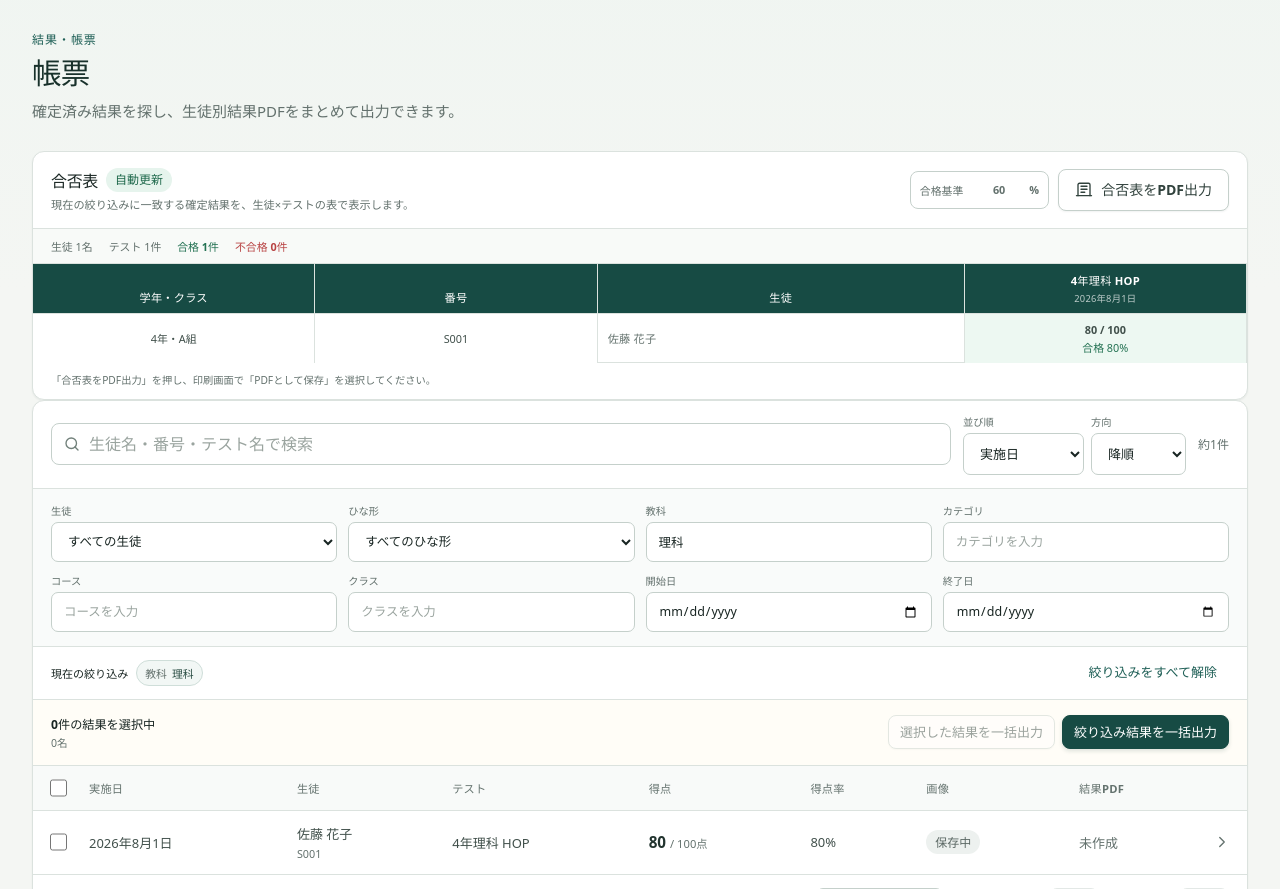
Test: ReportsPage bulk result export › reuses the acknowledged preview idempotency key after an ambiguous create failure
Click the checkbox named "佐藤 花子・4年理科 HOPを選択" at (58, 842), box x1=50 y1=833 x2=67 y2=851
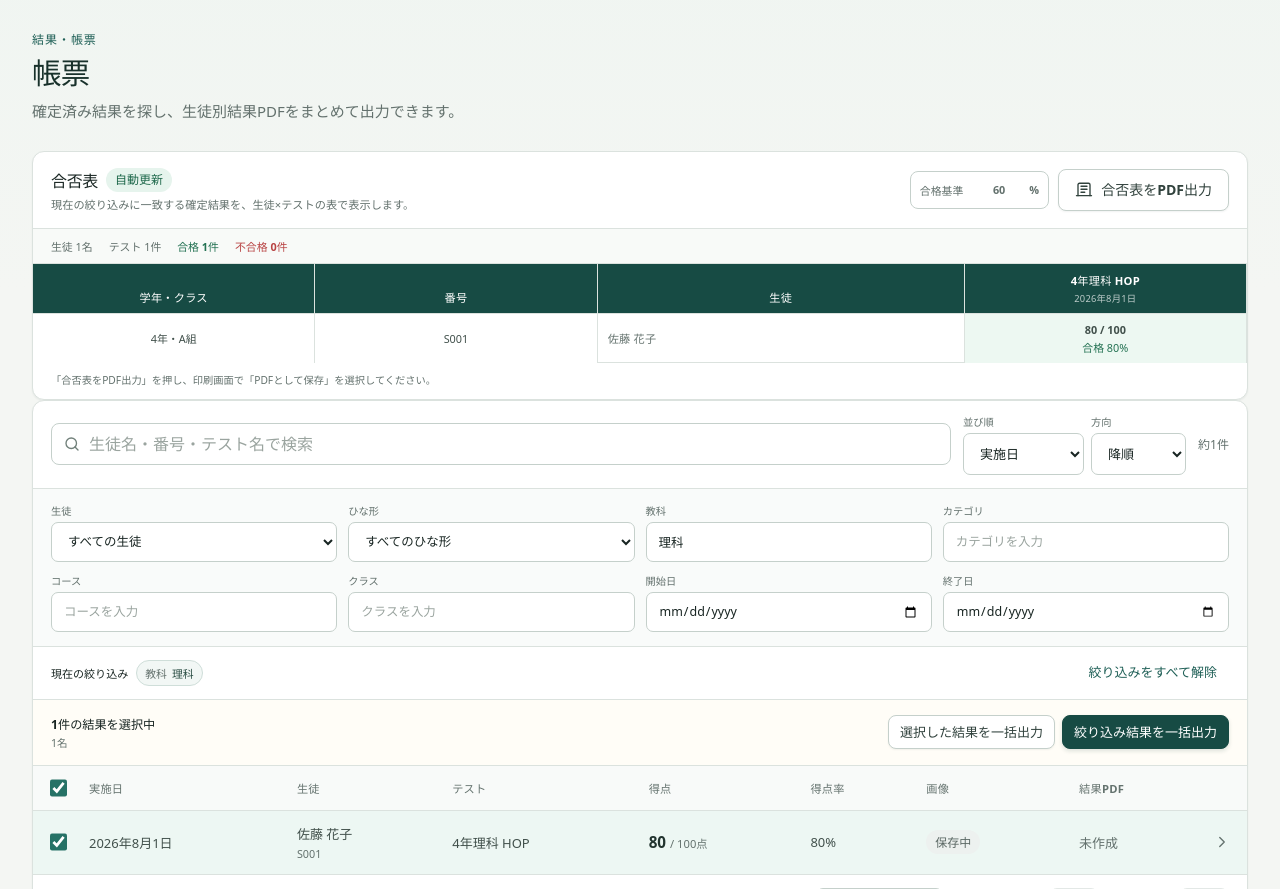
Click the button "選択した結果を一括出力" at (972, 732), box x1=888 y1=715 x2=1055 y2=749
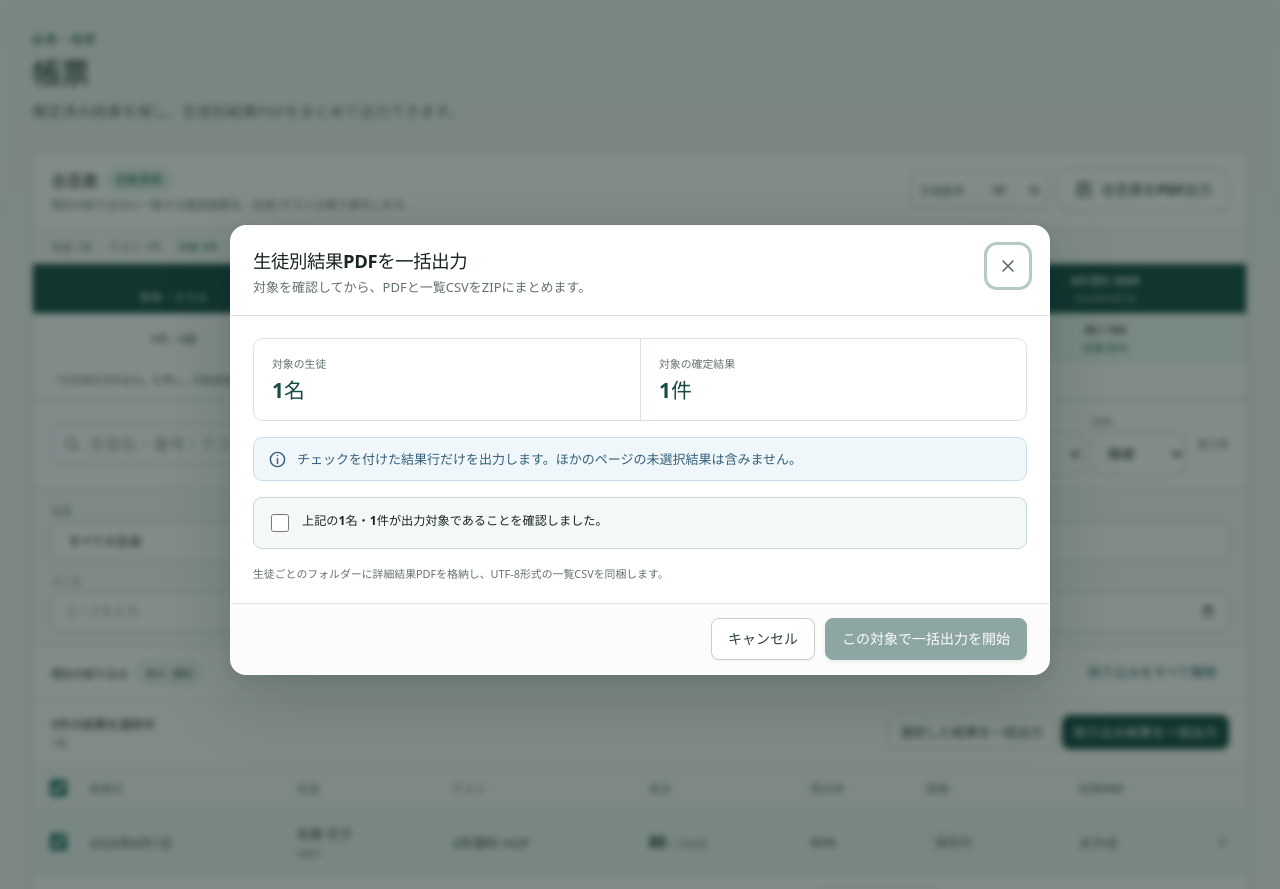
Click the checkbox labelled "上記の1名・1件が出力対象であることを確認しました。" at (280, 523), box x1=271 y1=514 x2=289 y2=532
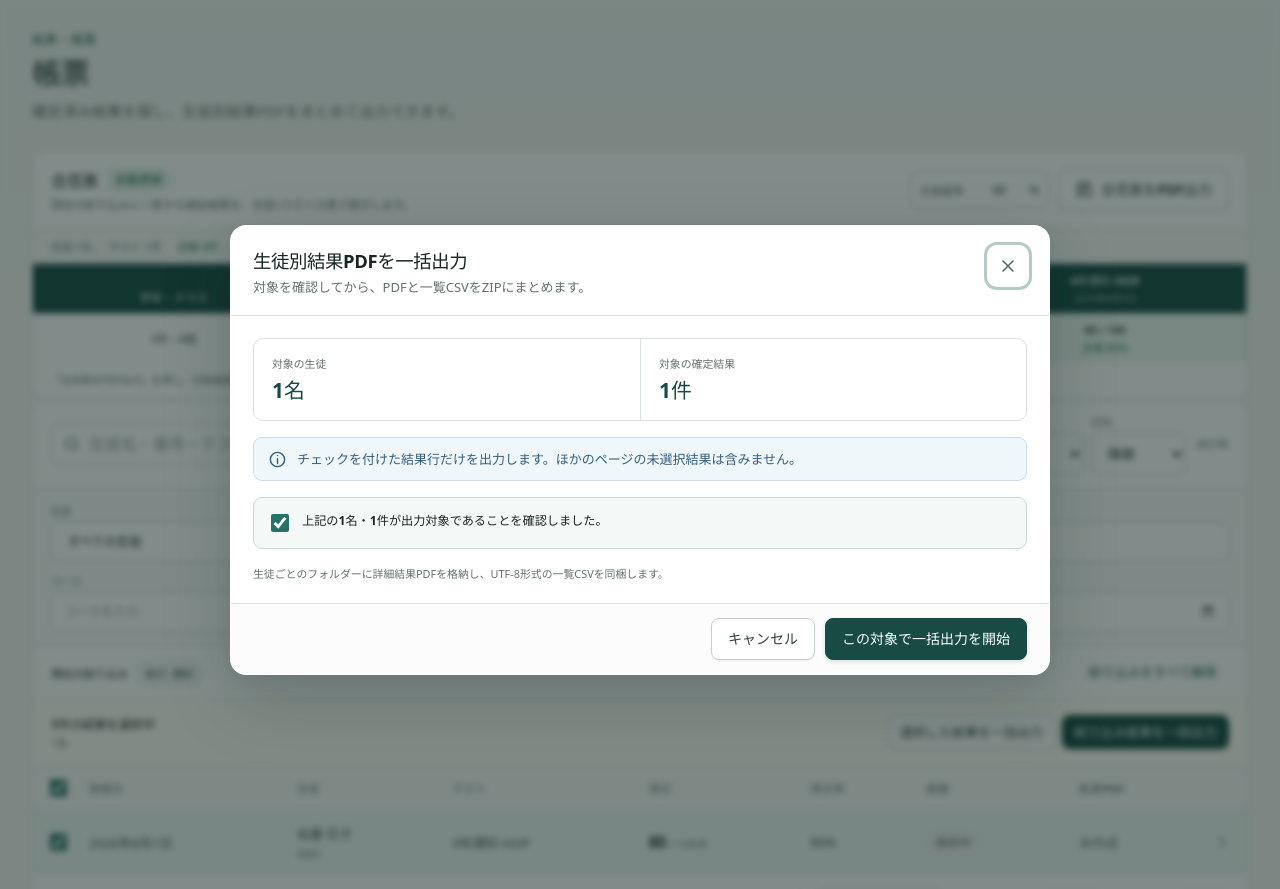
Click the button "この対象で一括出力を開始" at (926, 639), box x1=825 y1=618 x2=1027 y2=660
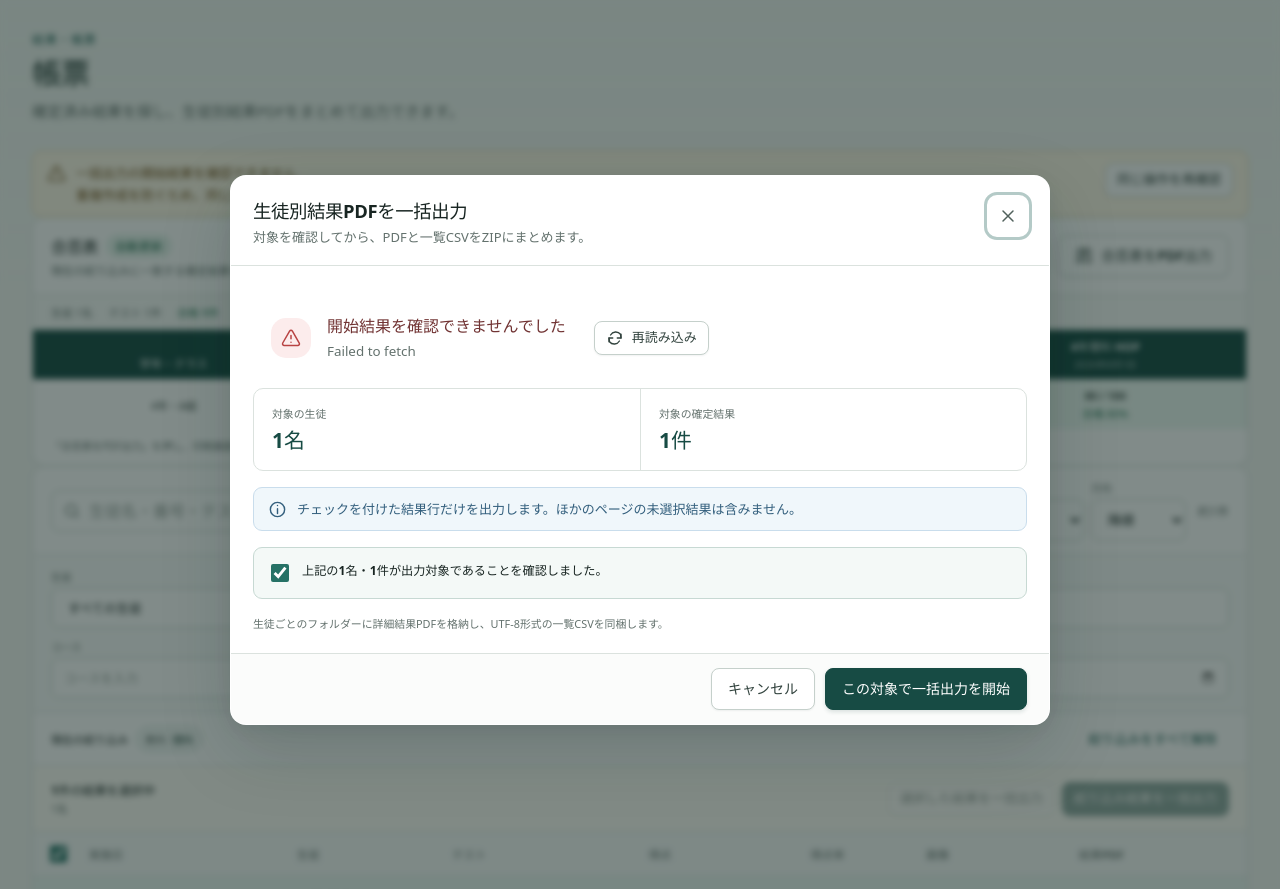
Result: the text "開始結果を確認できませんでした" is shown at x1=327 y1=315 x2=566 y2=337
Click the button "再読み込み" at (651, 338), box x1=594 y1=320 x2=709 y2=354
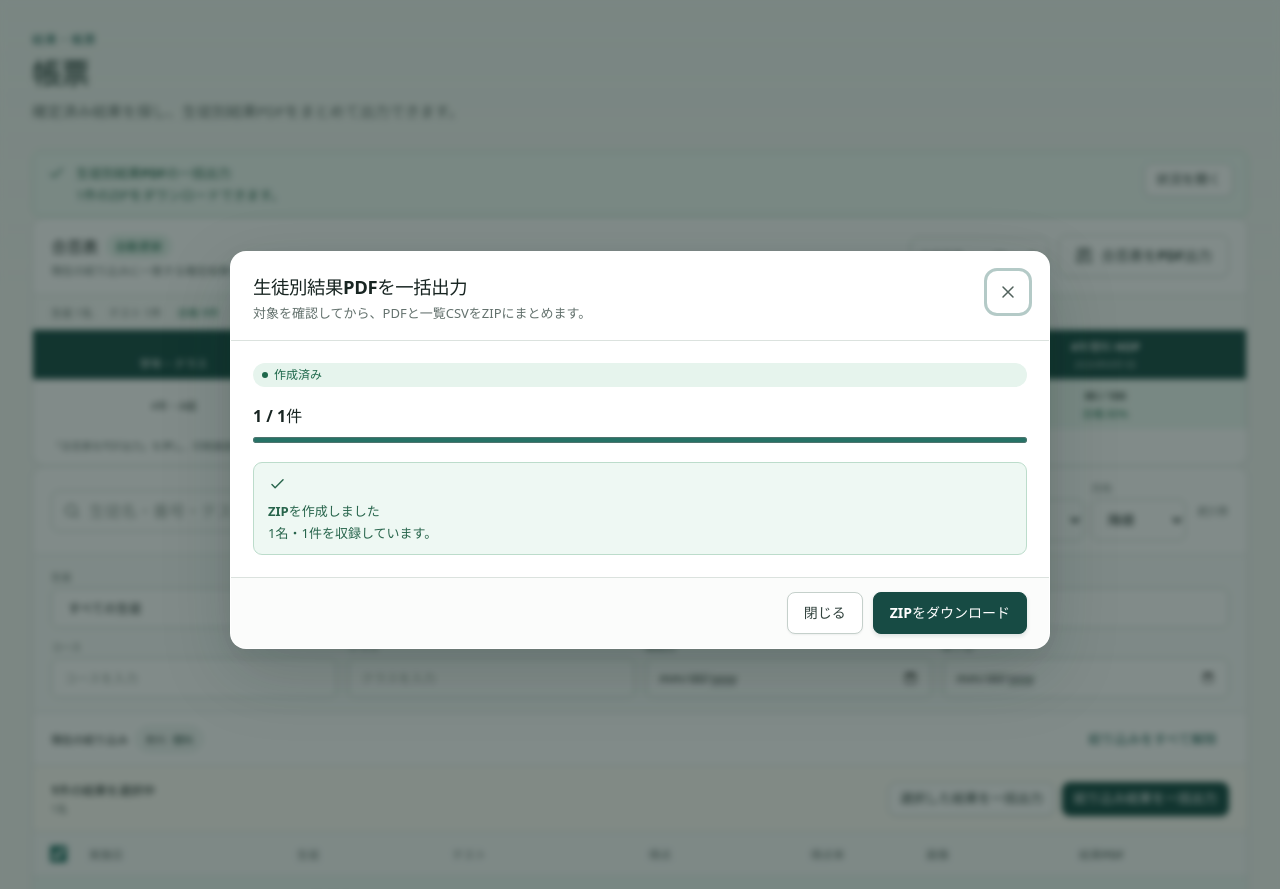
Result: the link "ZIPをダウンロード" is shown at x1=873 y1=592 x2=1027 y2=634
